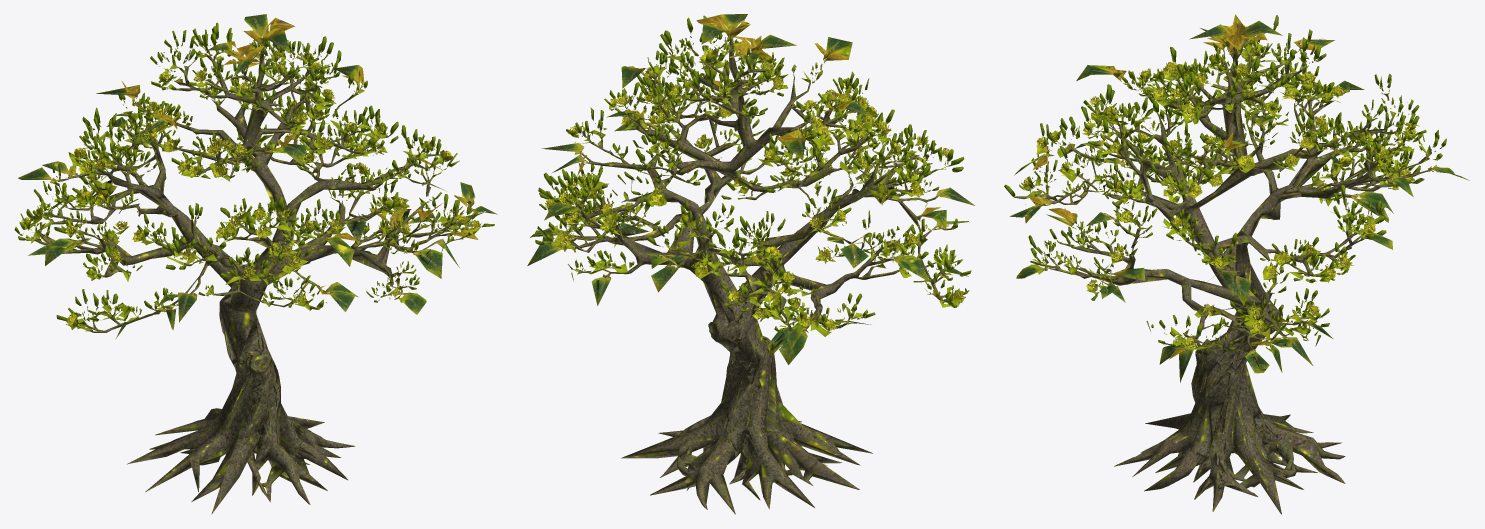
Rendered from apricot.glb.
3 views of the same model, side by side, from view 1: azimuth 30°, elevation 25°; view 2: azimuth 150°, elevation 25°; view 3: azimuth 270°, elevation 25° (orthographic). The views are drawn at different scales.
Parts seen in each view (by area): view 1: geometry_0; view 2: geometry_0; view 3: geometry_0.
Boxes of the visible parts, box(x1,y1,x2,y2) form: geometry_0: box(14, 14, 497, 514); geometry_0: box(527, 14, 974, 514); geometry_0: box(1004, 14, 1469, 514).
Size of the model in its own units: 0.9559 by 0.9898 by 0.9334.
1 material, 1 textured.
